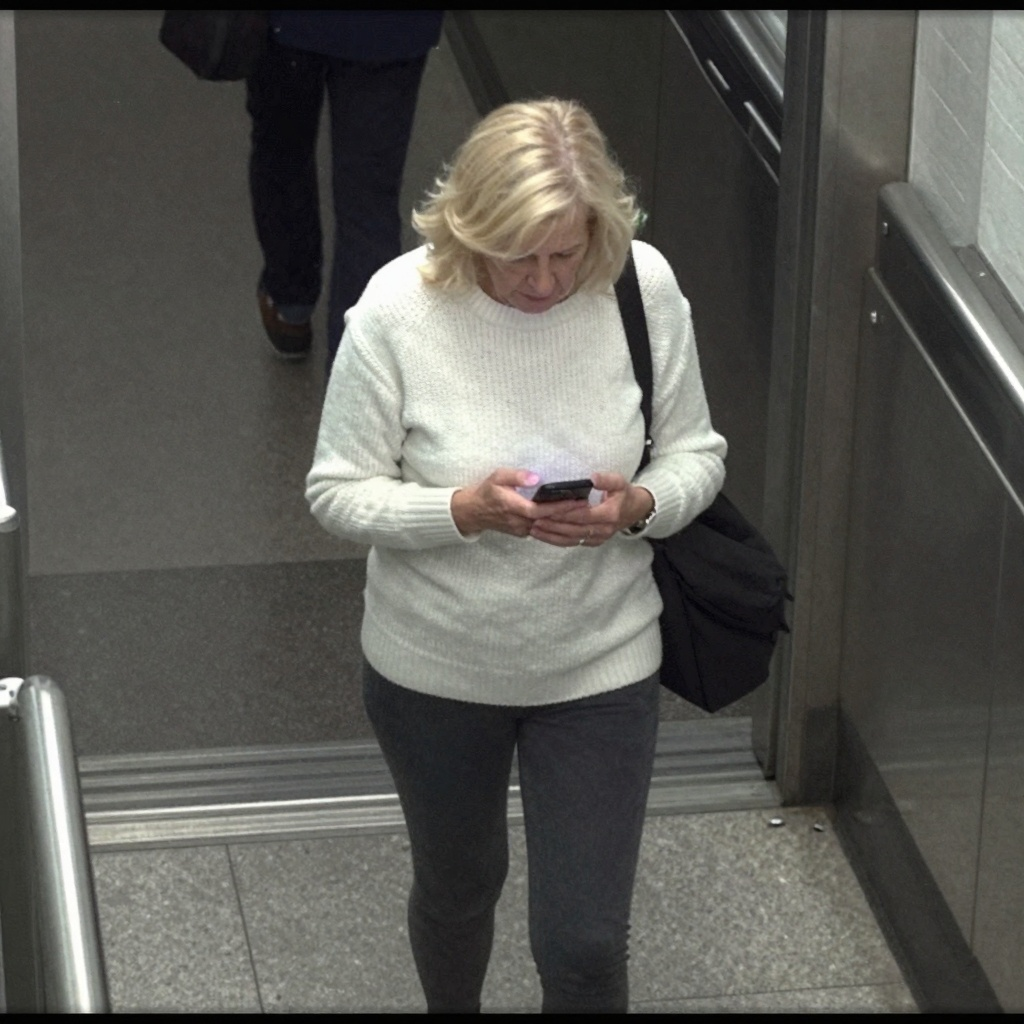Normal activity: (305, 95, 741, 1009), (160, 12, 444, 365), (245, 11, 444, 366)
